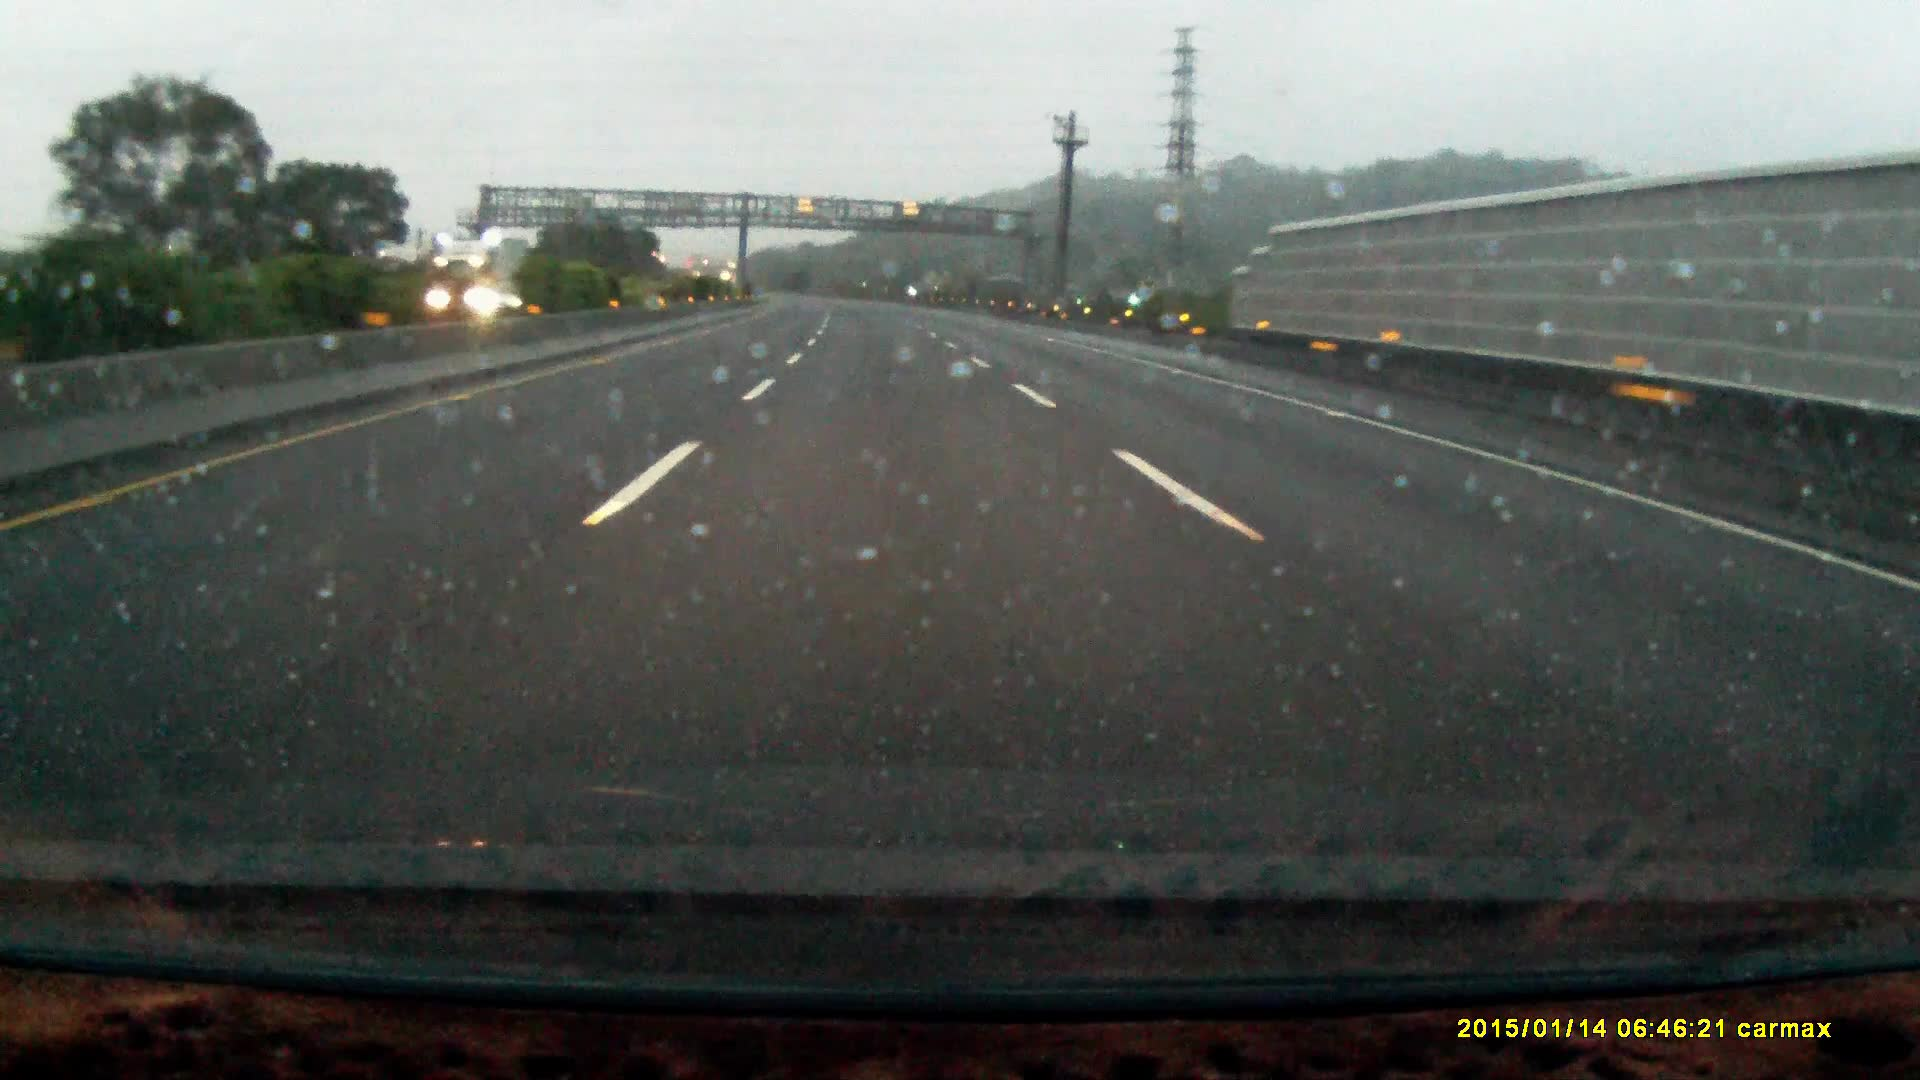vehicle: (433, 241, 534, 322), (469, 278, 554, 316)
